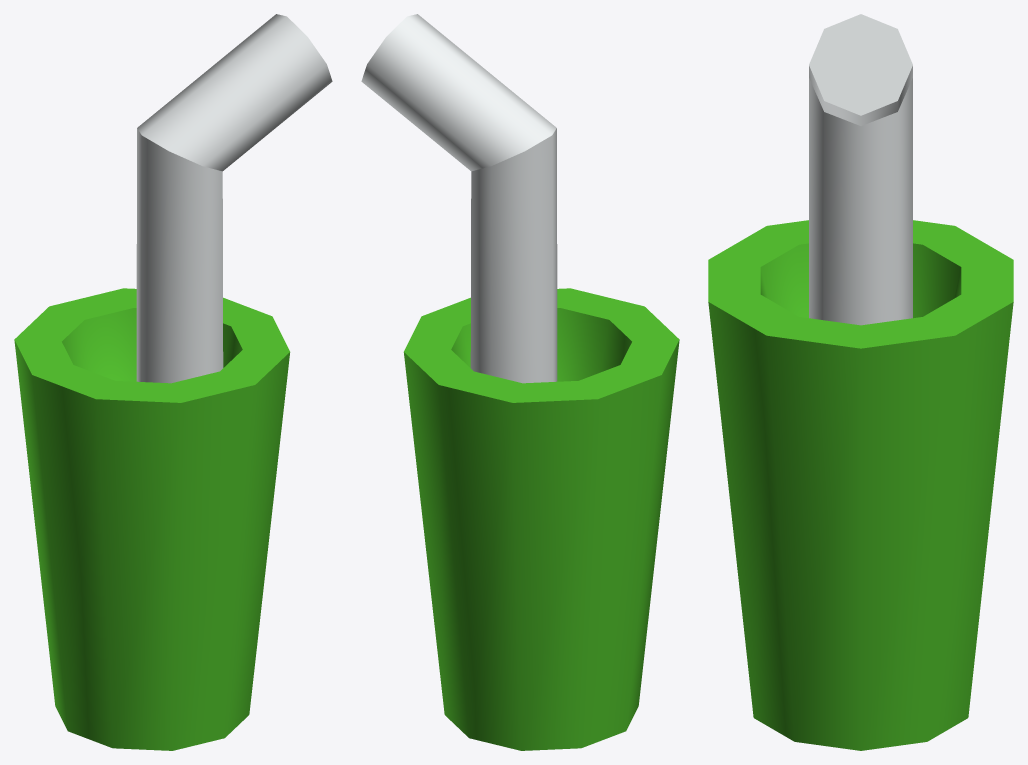
Rendered from glass01_s02.FBX.
The picture shows the model from 3 angles, left to right: view 1: azimuth 30°, elevation 25°; view 2: azimuth 150°, elevation 25°; view 3: azimuth 270°, elevation 25°; orthographic projection. The views are drawn at different scales.
Parts seen in each view (by area): view 1: glass01_s02; view 2: glass01_s02; view 3: glass01_s02.
Part boxes in pixels (left/top/right/bottom): glass01_s02: left=14, top=14, right=332, bottom=750; glass01_s02: left=361, top=14, right=679, bottom=750; glass01_s02: left=708, top=14, right=1013, bottom=750.
Size of the model in its own units: 42.91 by 33.85 by 93.63.
Materials: 1 (1 with a texture image).
